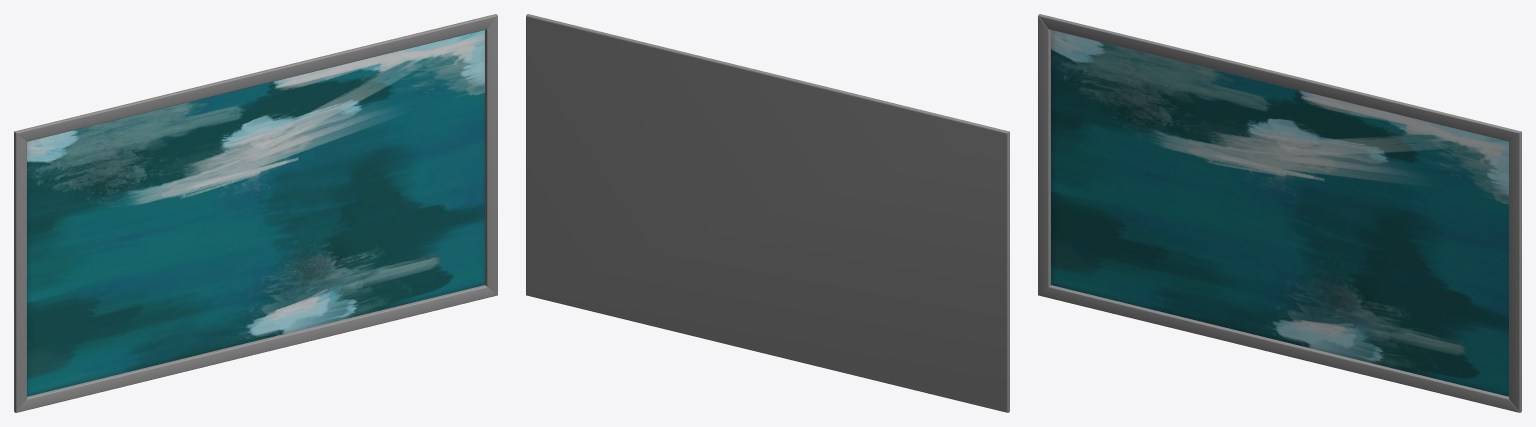
The model's file is Large rectangular picture.FBX.
3 renders of one model, left to right at view 1: azimuth 30°, elevation 25°; view 2: azimuth 150°, elevation 25°; view 3: azimuth 330°, elevation 25°, orthographic.
Parts seen in each view (by area): view 1: Box001; view 2: Box001; view 3: Box001.
Part boxes in pixels (x1,y1,x2,y2): Box001: [14, 14, 497, 412]; Box001: [526, 14, 1009, 412]; Box001: [1038, 14, 1521, 412].
Size of the model in its own units: 720 by 400 by 6.54.
